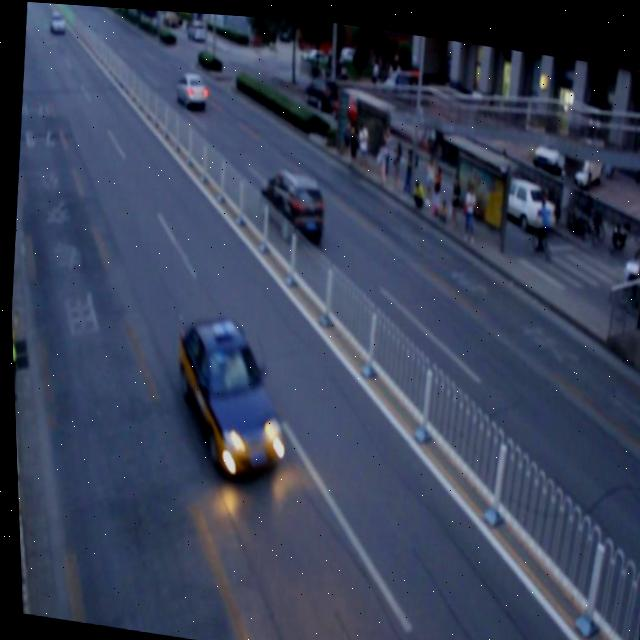car: (164, 306, 291, 481), (251, 158, 326, 243), (173, 66, 208, 110)
